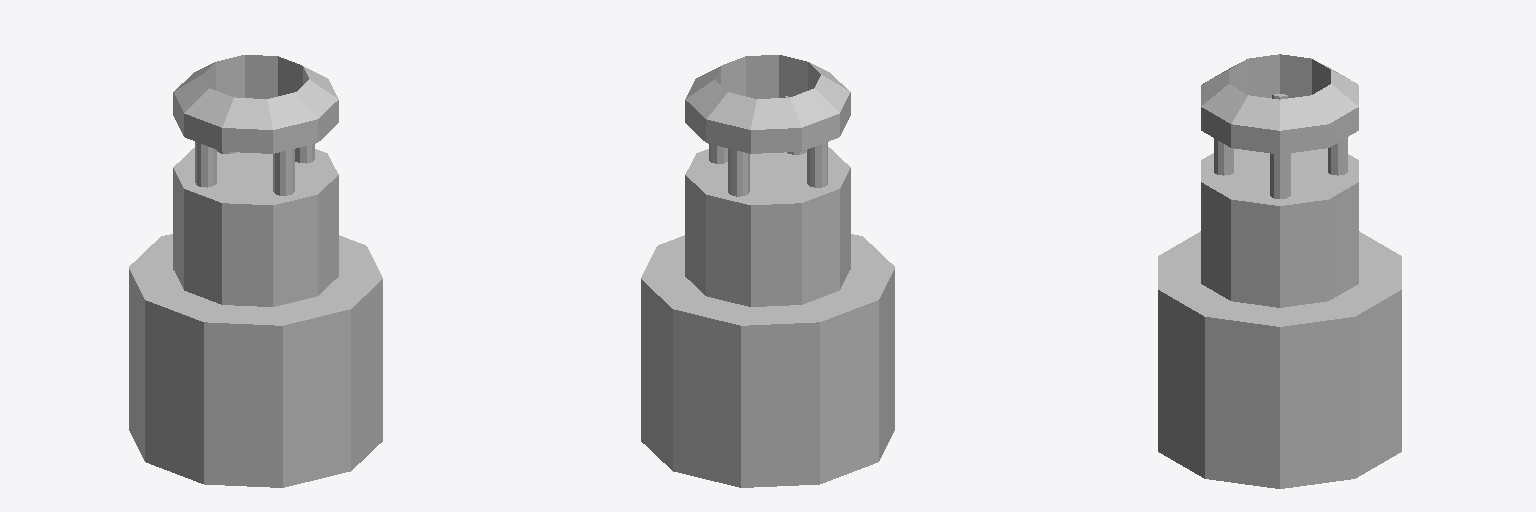
The model's file is Platform4.obj.
3 views of the same model, side by side, from view 1: azimuth 30°, elevation 25°; view 2: azimuth 150°, elevation 25°; view 3: azimuth 270°, elevation 25° (orthographic).
Parts seen in each view (by area): view 1: pCylinder8; view 2: pCylinder8; view 3: pCylinder8.
Boxes of the visible parts, x1=… form: pCylinder8: x1=129, y1=55, x2=382, y2=487; pCylinder8: x1=641, y1=55, x2=894, y2=487; pCylinder8: x1=1158, y1=54, x2=1401, y2=488.
Size of the model in its own units: 4.11 by 6.34 by 3.91.